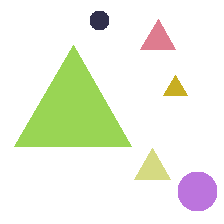circle: (178, 172, 216, 210), (90, 11, 108, 29)
triangle: (14, 45, 131, 146), (134, 148, 170, 179), (140, 19, 175, 49), (163, 75, 187, 95)
